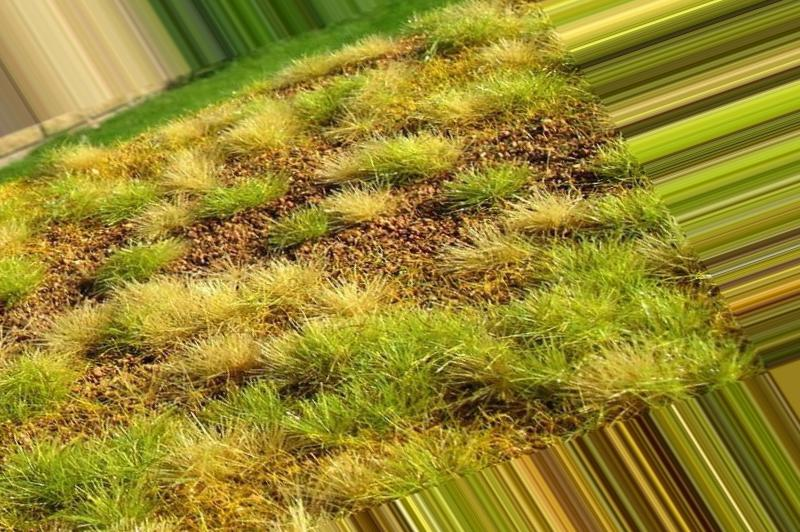patch: (302, 159, 542, 284), (130, 275, 315, 363), (47, 152, 185, 240)
